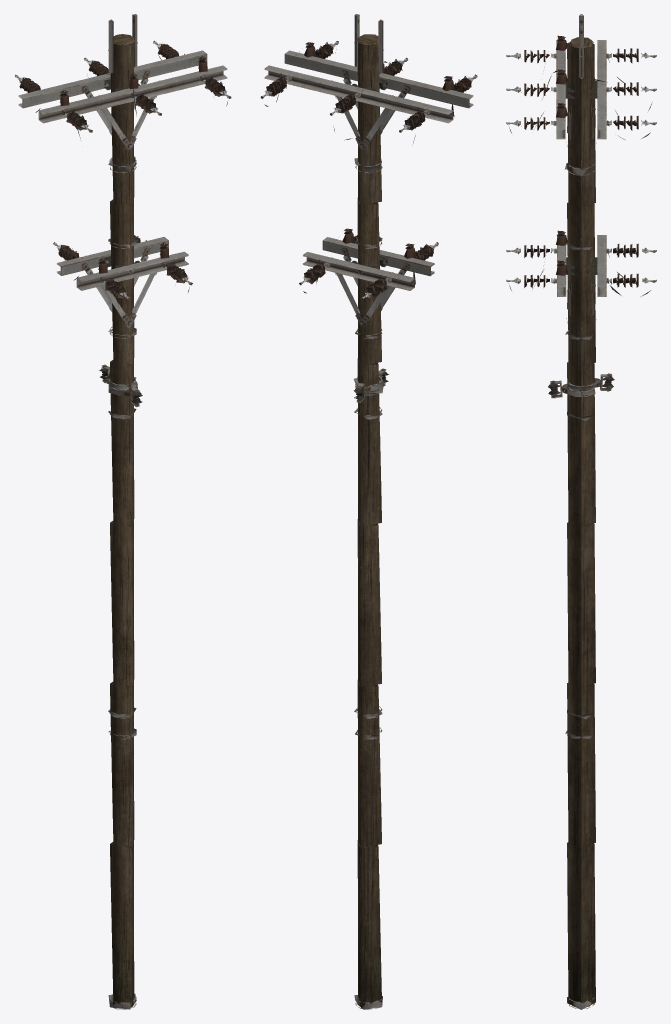
File: power_pole.glb
3 renders of one model, left to right at view 1: azimuth 30°, elevation 25°; view 2: azimuth 150°, elevation 25°; view 3: azimuth 270°, elevation 25°, orthographic.
Visible parts, largest first — view 1: power_pole; view 2: power_pole; view 3: power_pole.
Part boxes in pixels (bbox=[...]): power_pole: bbox=[14, 14, 231, 1009]; power_pole: bbox=[260, 14, 477, 1009]; power_pole: bbox=[506, 14, 656, 1009].
Bounding box in the file's own units: 1.2 × 6.13 × 0.8522.
Materials: 2 (2 with a texture image).
